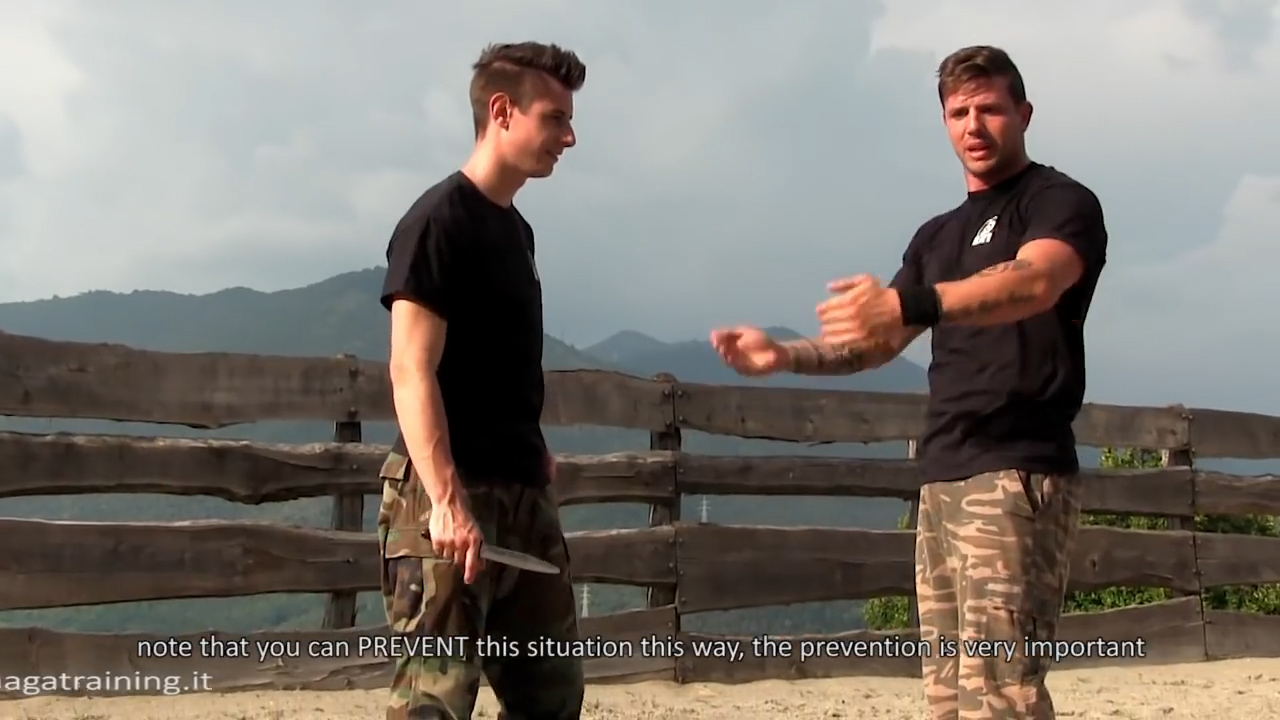knife: (411, 518, 569, 587)
